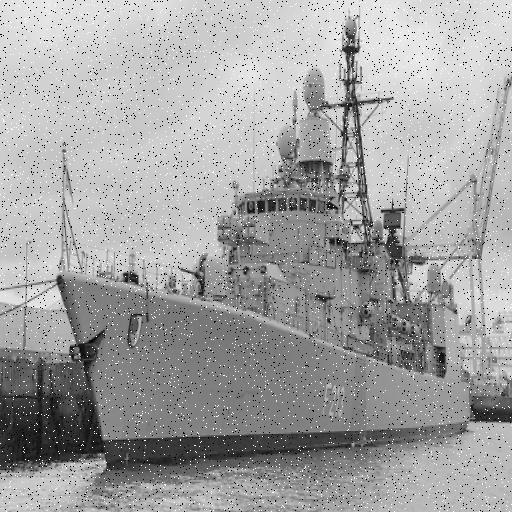Fragata: (51, 1, 480, 478)
